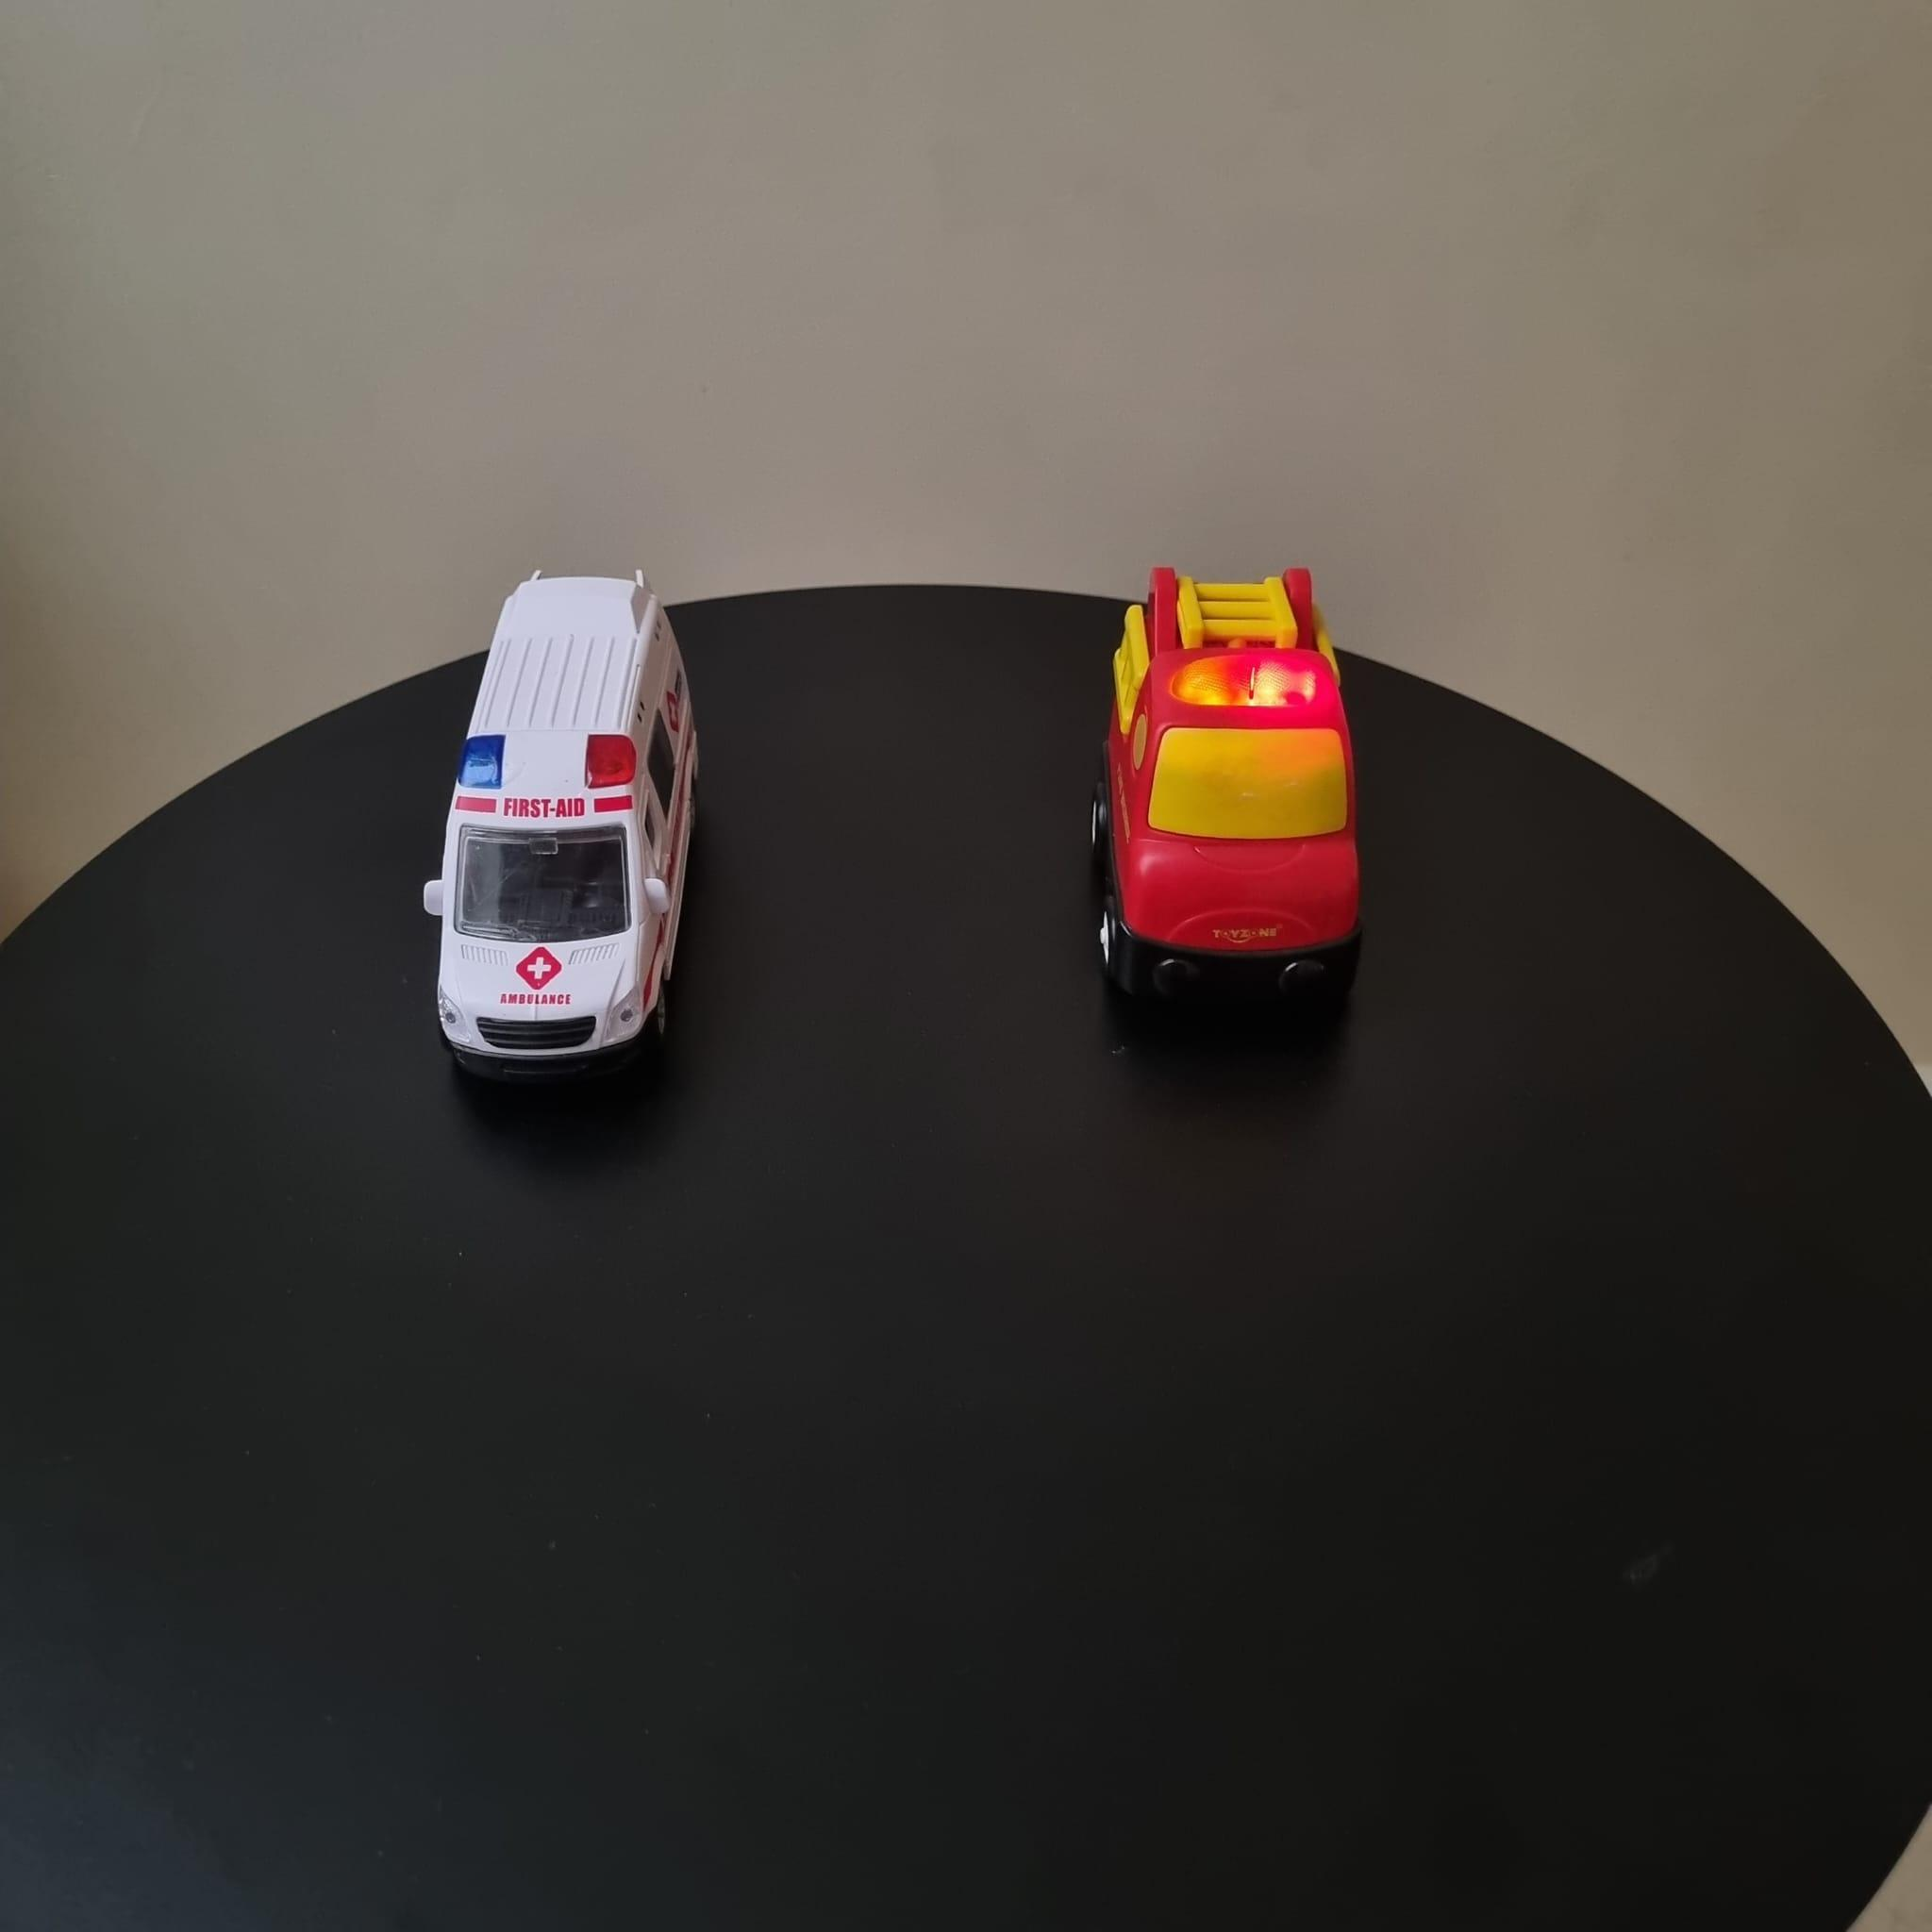ambulance_off: (410, 566, 713, 1097)
firetruck_on: (1072, 563, 1369, 1035)
